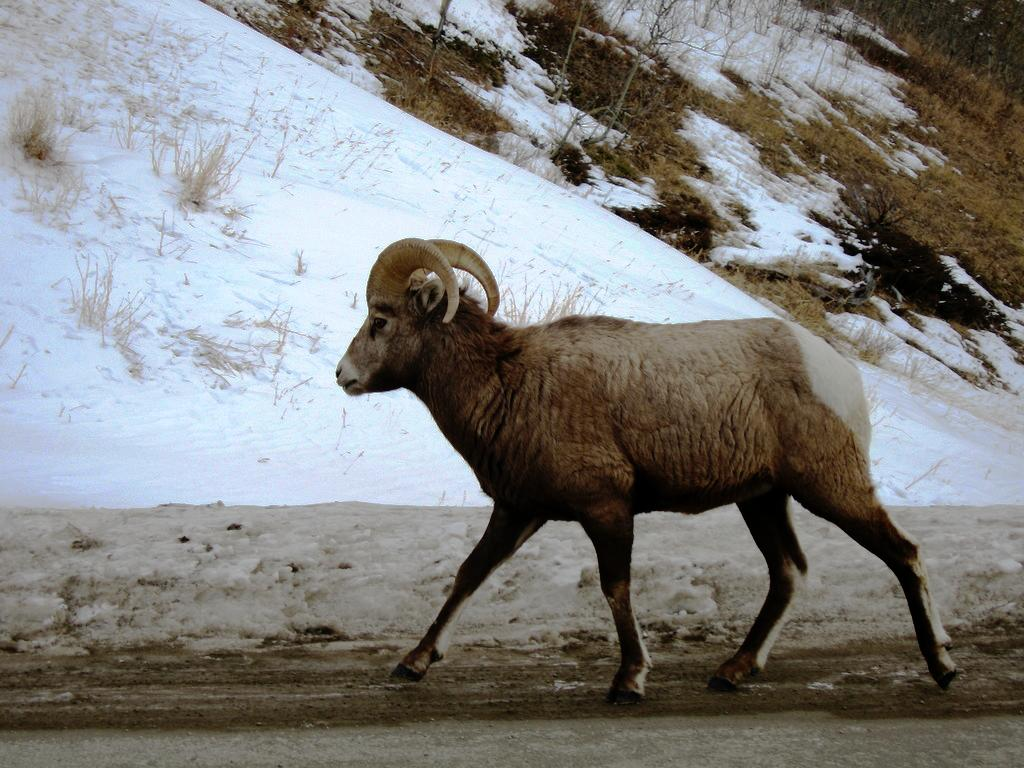Sheep: (336, 238, 966, 704)
